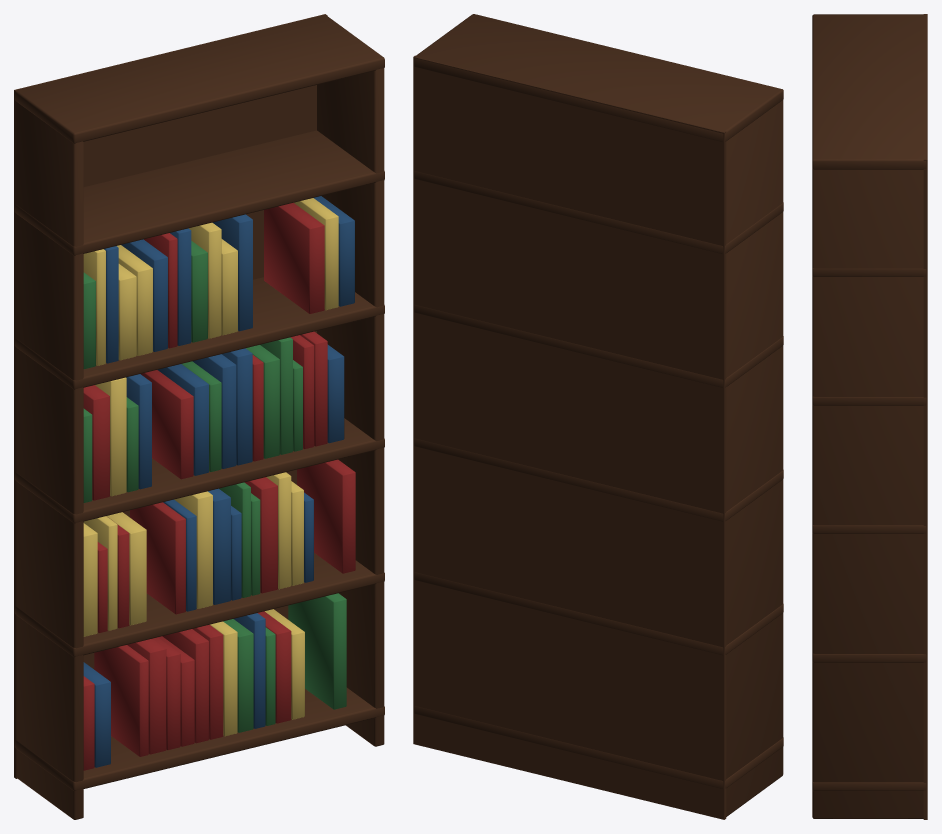
The model's file is Bookshelf_Tall.glb.
3 views of the same model, side by side, from view 1: azimuth 30°, elevation 25°; view 2: azimuth 150°, elevation 25°; view 3: azimuth 270°, elevation 25° (orthographic). The views are drawn at different scales.
Parts seen in each view (by area): view 1: Bookshelf_Tall; view 2: Bookshelf_Tall; view 3: Bookshelf_Tall.
Boxes of the visible parts, x1,y1,x2,y2 form: Bookshelf_Tall: (14, 14, 384, 819); Bookshelf_Tall: (413, 14, 783, 819); Bookshelf_Tall: (812, 14, 927, 819).
Size of the model in its own units: 0.902 by 1.9 by 0.3015.
